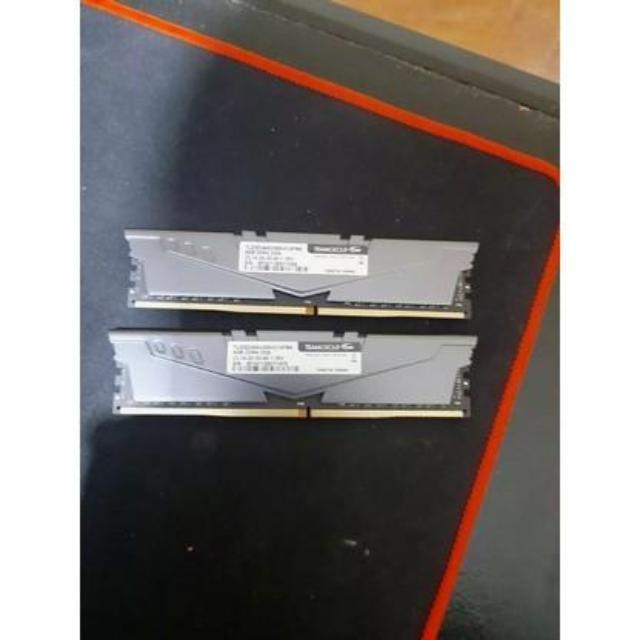RAM: (124, 223, 482, 325), (108, 327, 483, 421)
